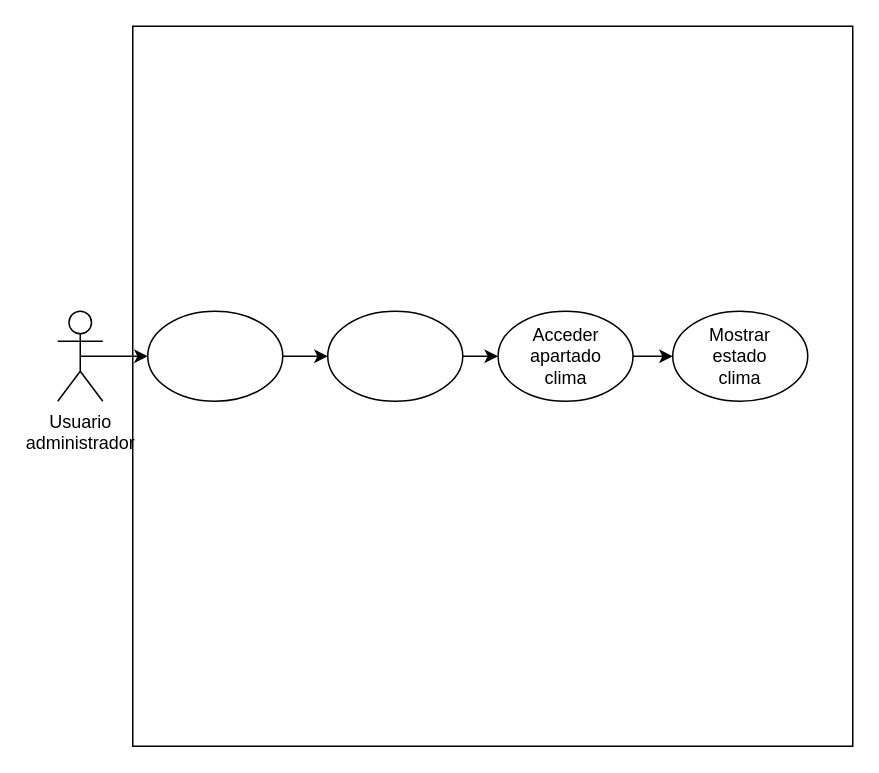
This 879x773 diagram has some shape labels left out. Here are the shapes that lost their labels. From the top down, the centre of each, then its label:
pixel 214 355: Iniciar sesión
pixel 394 355: Acceder apartado estado
